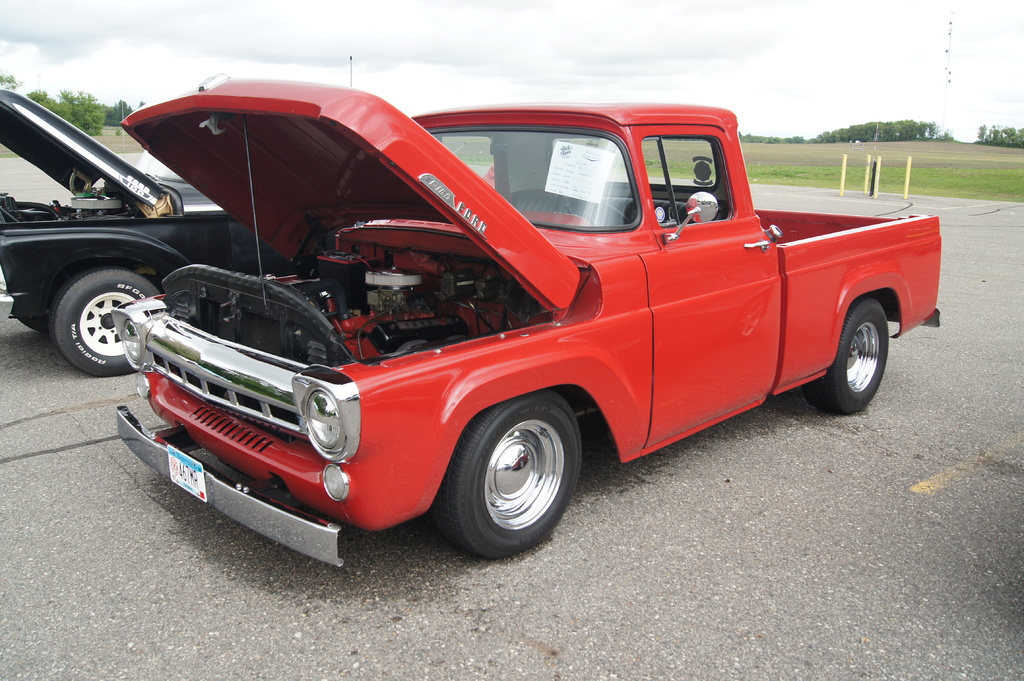cars: (58, 91, 914, 565), (0, 90, 300, 371)
